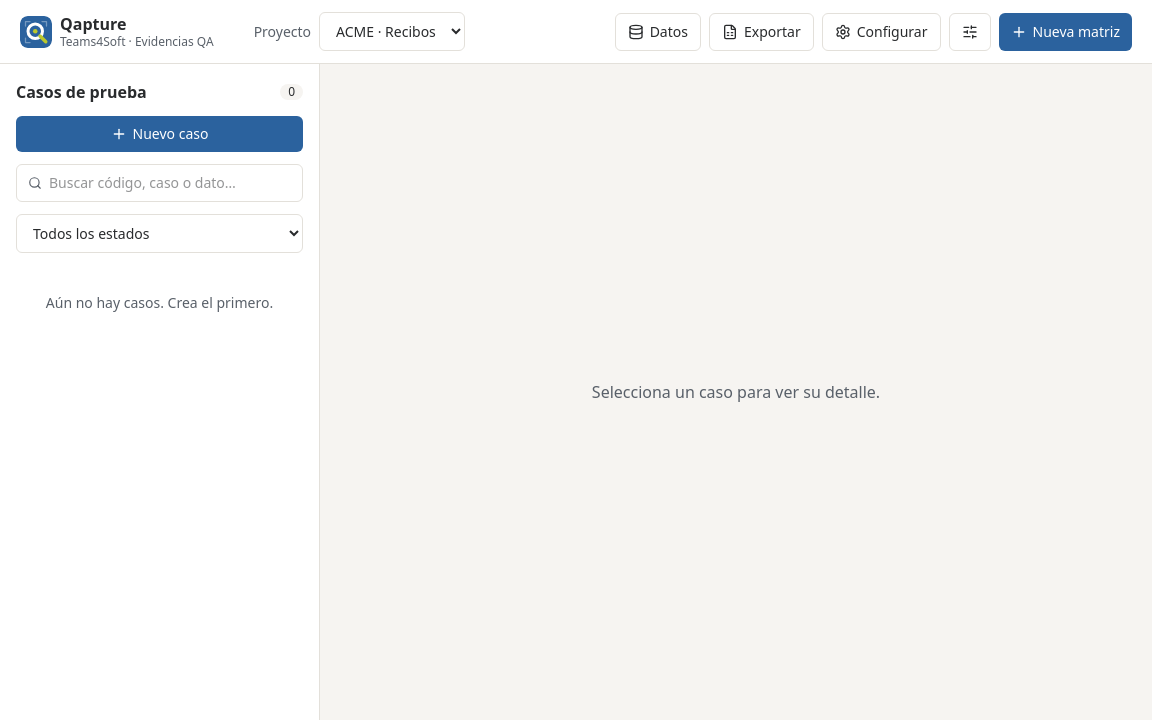
it: pestaña GitHub de Configurar proyecto › vincular dos repos y marcar el predeterminado guarda la config
Click the button "Configurar". click: (881, 32)
box: [822,12,940,50]
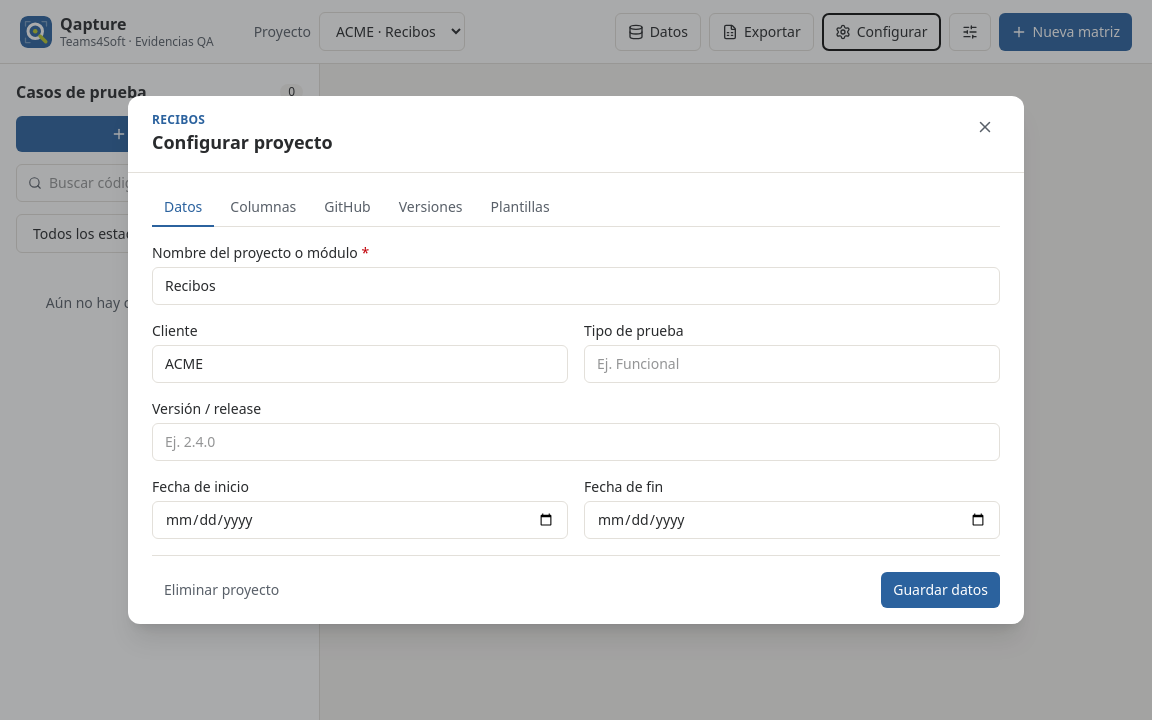
Click the tab "GitHub". click: (347, 208)
box: [312,189,383,227]
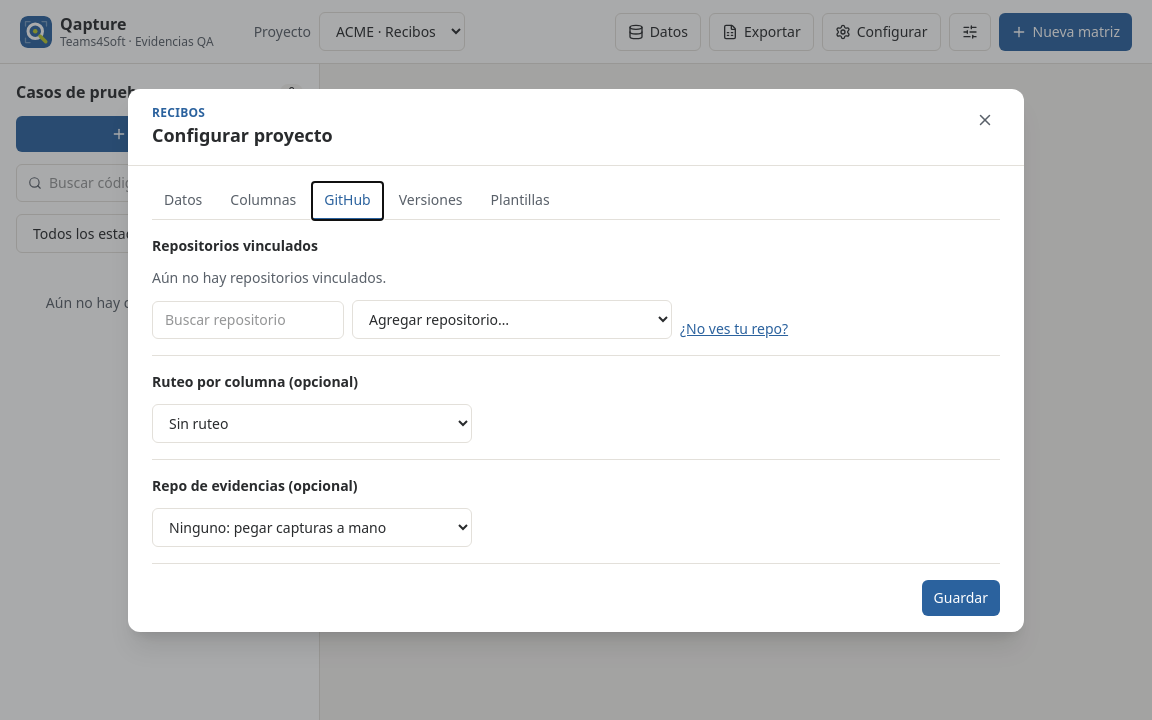
Select "acme/web" in the dropdown named "Agregar repositorio". click: (512, 319)
box: [352,300,672,338]
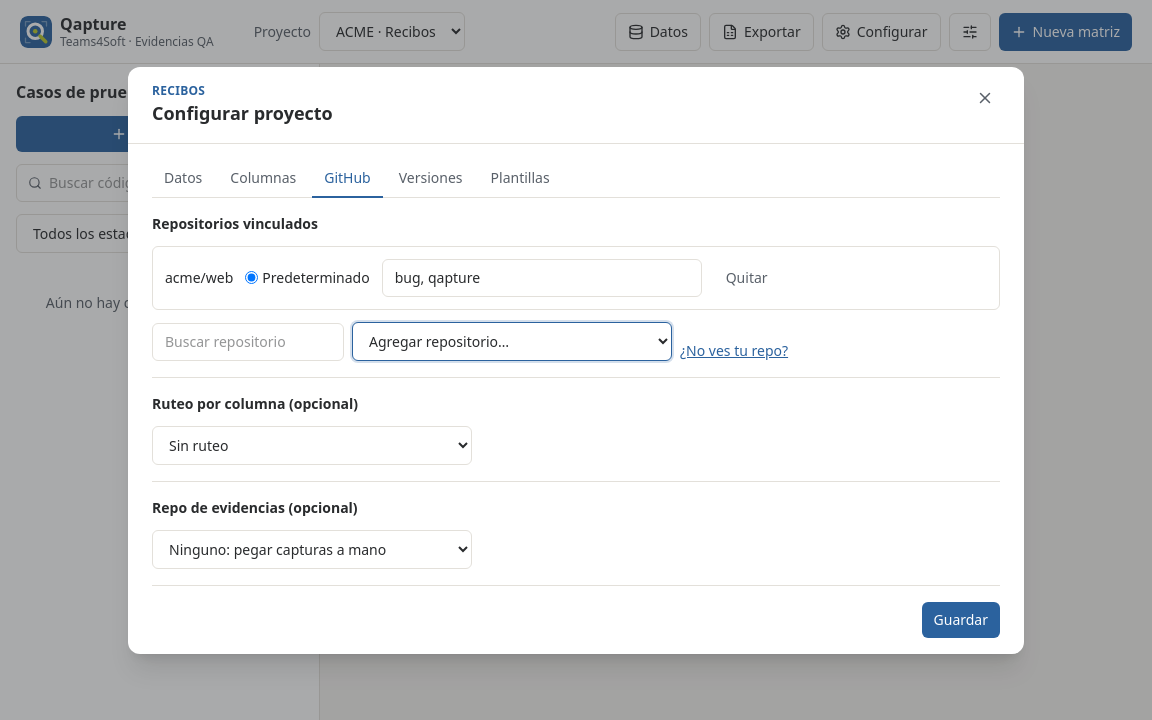
Select "🔒 acme/api" in the dropdown named "Agregar repositorio". click: (512, 341)
box: [352,322,672,360]
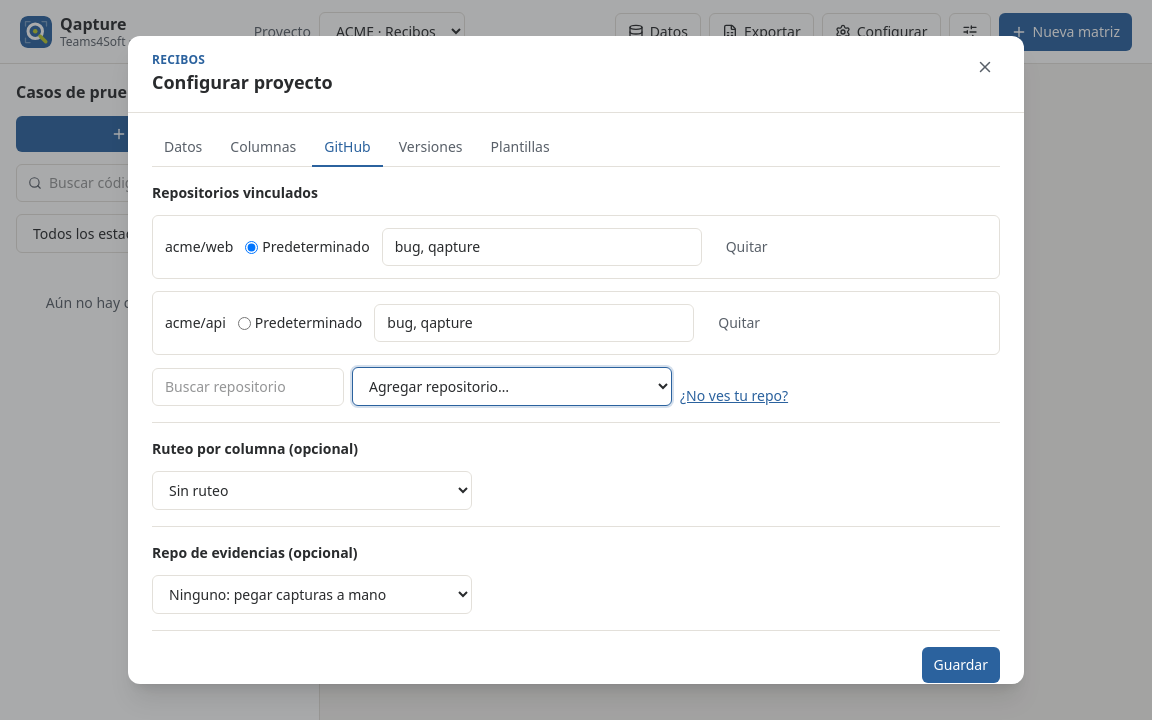
Result: the radio button with aria-label "Predeterminado acme/web" is checked at [245,240,258,254]
Click the radio button with aria-label "Predeterminado acme/api". click: (244, 323)
box: [238,316,251,330]
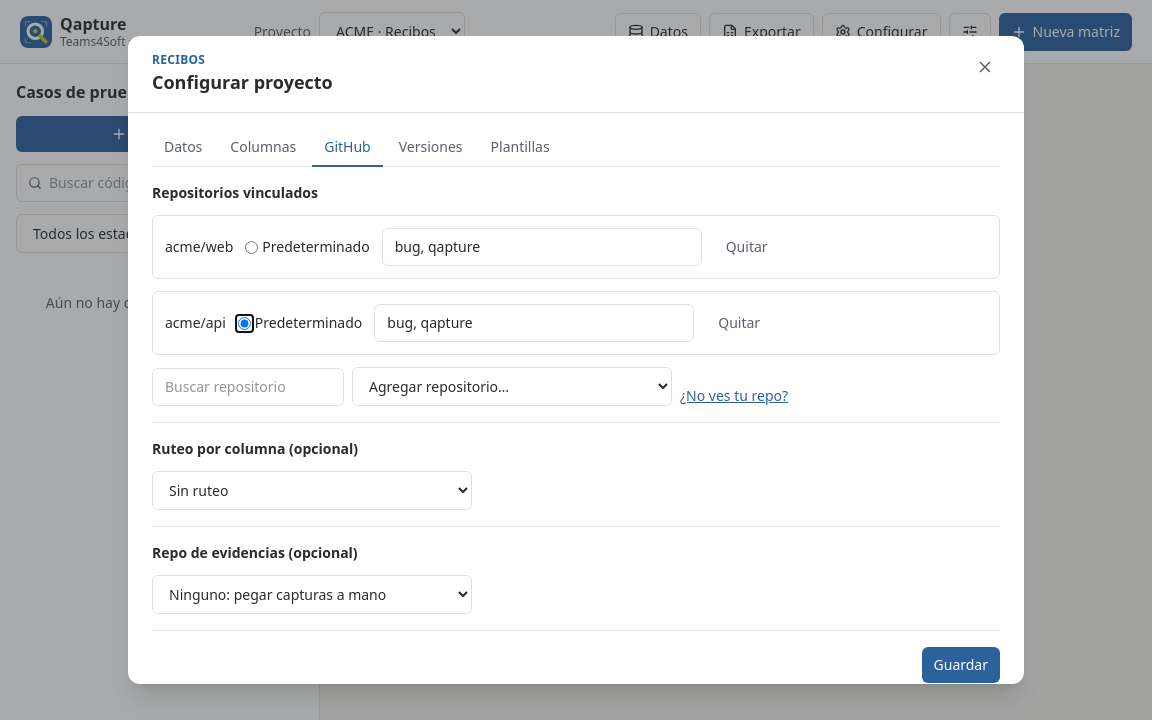
Result: the field named "Etiquetas de acme/api" holds "bug, qapture"
Replace the text in the field named "Etiquetas de acme/api" with "bug, ui". click: (534, 323)
box: [374,304,694,342]
Click the button "Guardar". click: (961, 665)
box: [922,647,1000,683]
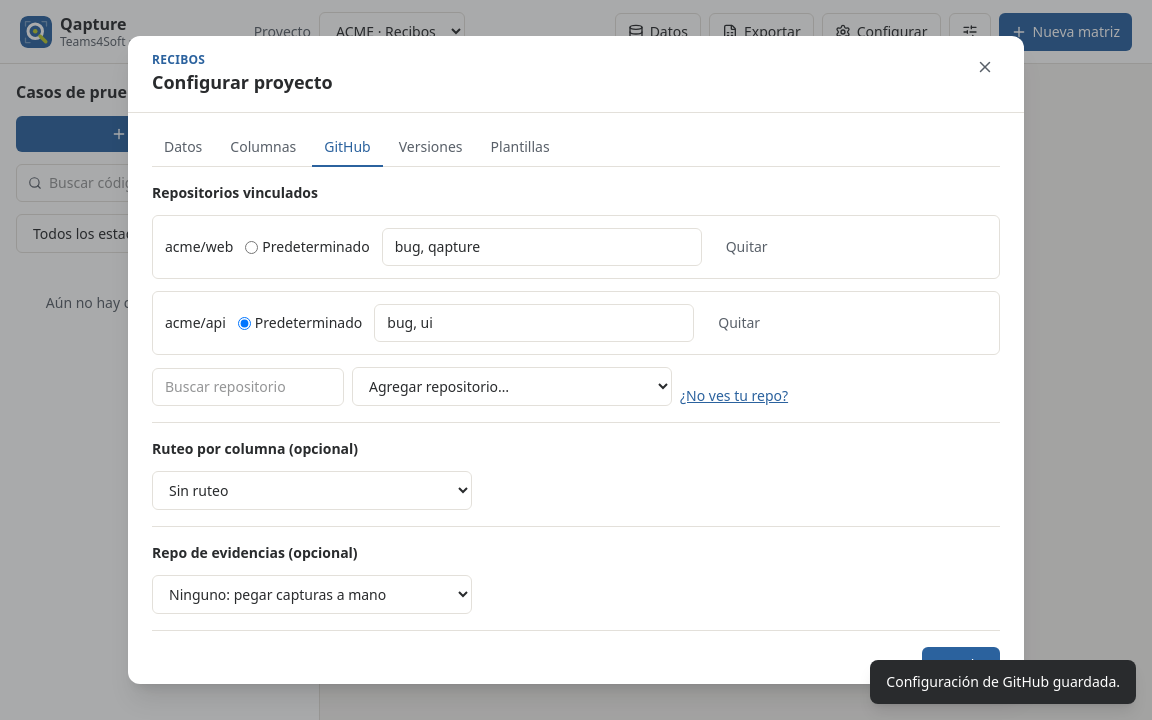
Result: the text "Configuración de GitHub guardada." is shown at [886,672,1120,692]
